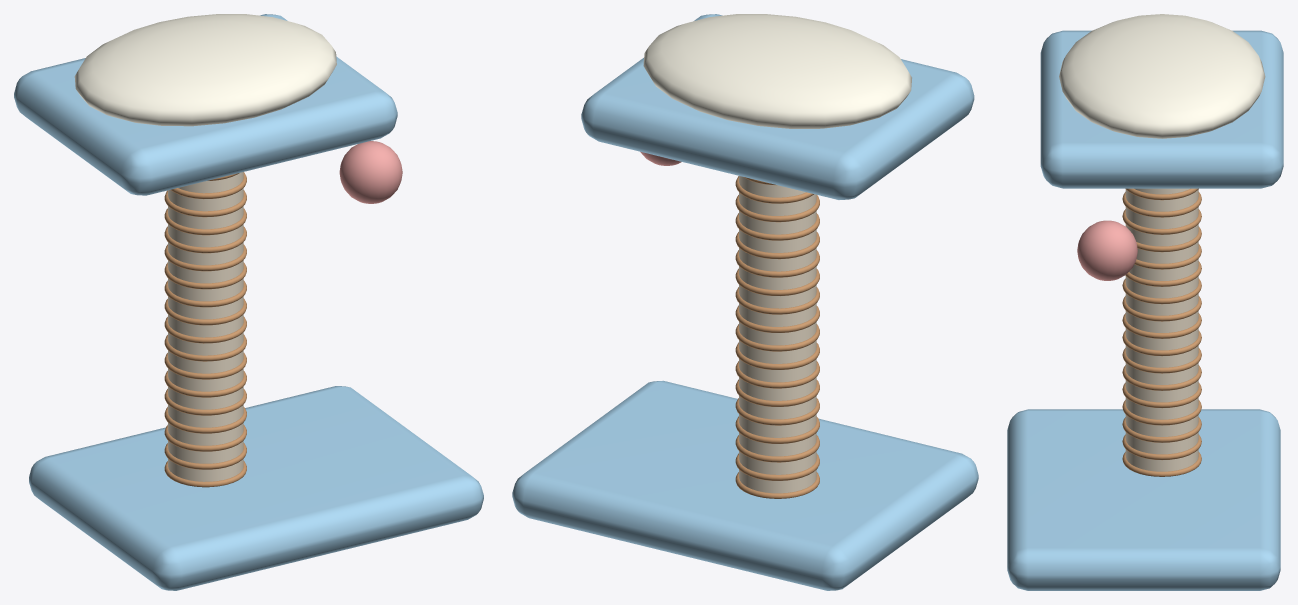
Rendered from catTreeBlue.glb.
The picture shows the model from 3 angles, left to right: view 1: azimuth 30°, elevation 25°; view 2: azimuth 150°, elevation 25°; view 3: azimuth 270°, elevation 25°; orthographic projection. The views are drawn at different scales.
Visible parts, largest first — view 1: Cat tree base, Upper perch, Cushion, Sisal post, Dangling toy, Rope ring.004, Rope ring.005, Rope ring.007, Rope ring.010, Rope ring.003, Rope ring.006, Rope ring.009 (+8 smaller); view 2: Cat tree base, Upper perch, Cushion, Sisal post, Rope ring.012, Rope ring.014, Rope ring.010, Rope ring.006, Rope ring.008, Rope ring.002, Rope ring.004, Rope ring.001 (+8 smaller); view 3: Cat tree base, Cushion, Upper perch, Sisal post, Dangling toy, Rope ring.003, Rope ring.006, Rope ring.009, Rope ring.015, Rope ring.002, Rope ring.005, Rope ring.014 (+10 smaller).
Part boxes in pixels (x1,y1,x2,y2): Cat tree base: (29,386,483,590); Upper perch: (14,14,397,195); Cushion: (74,14,336,126); Sisal post: (168,172,243,481); Dangling toy: (339,141,402,203); Rope ring.004: (164,389,246,415); Rope ring.005: (164,371,246,397); Rope ring.007: (164,334,246,361); Rope ring.010: (164,280,246,307); Rope ring.003: (164,407,246,433); Rope ring.006: (164,353,246,379); Rope ring.009: (164,298,246,325); Cat tree base: (512,380,978,590); Upper perch: (581,14,974,199); Cushion: (643,14,911,128); Sisal post: (739,176,816,493); Rope ring.012: (735,250,819,277); Rope ring.014: (735,213,819,240); Rope ring.010: (735,287,819,314); Rope ring.006: (735,361,819,388); Rope ring.008: (735,324,819,351); Rope ring.002: (735,435,819,462); Rope ring.004: (735,398,819,425); Rope ring.001: (735,453,819,480); Cat tree base: (1007,409,1280,590); Cushion: (1059,14,1265,138); Upper perch: (1040,30,1283,188); Sisal post: (1125,188,1198,471); Dangling toy: (1077,220,1137,280); Rope ring.003: (1122,400,1201,425); Rope ring.006: (1122,348,1201,373); Rope ring.009: (1122,296,1201,321); Rope ring.015: (1122,192,1201,217); Rope ring.002: (1122,417,1201,442); Rope ring.005: (1122,365,1201,390); Rope ring.014: (1122,209,1201,234).
Size of the model in its own units: 1.25 by 1.64 by 0.91.
